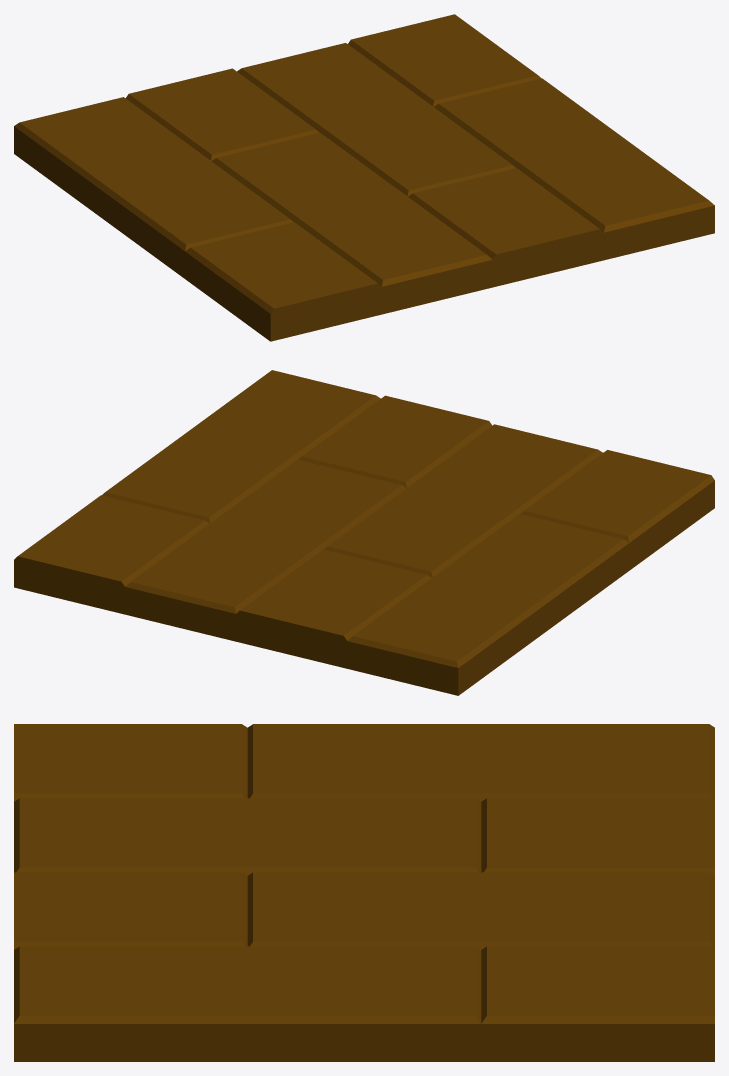
The model's file is R_Floor_Small_2.fbx.
3 renders of one model, top to bottom at view 1: azimuth 30°, elevation 25°; view 2: azimuth 150°, elevation 25°; view 3: azimuth 270°, elevation 25°, orthographic. The views are drawn at different scales.
Visible parts, largest first — view 1: R_Floor_Small_2; view 2: R_Floor_Small_2; view 3: R_Floor_Small_2.
Boxes of the visible parts, box(x1,y1,x2,y2) form: R_Floor_Small_2: box(14, 14, 714, 341); R_Floor_Small_2: box(14, 370, 714, 695); R_Floor_Small_2: box(14, 724, 714, 1061).
Size of the model in its own units: 1000 by 1000 by 69.08.
